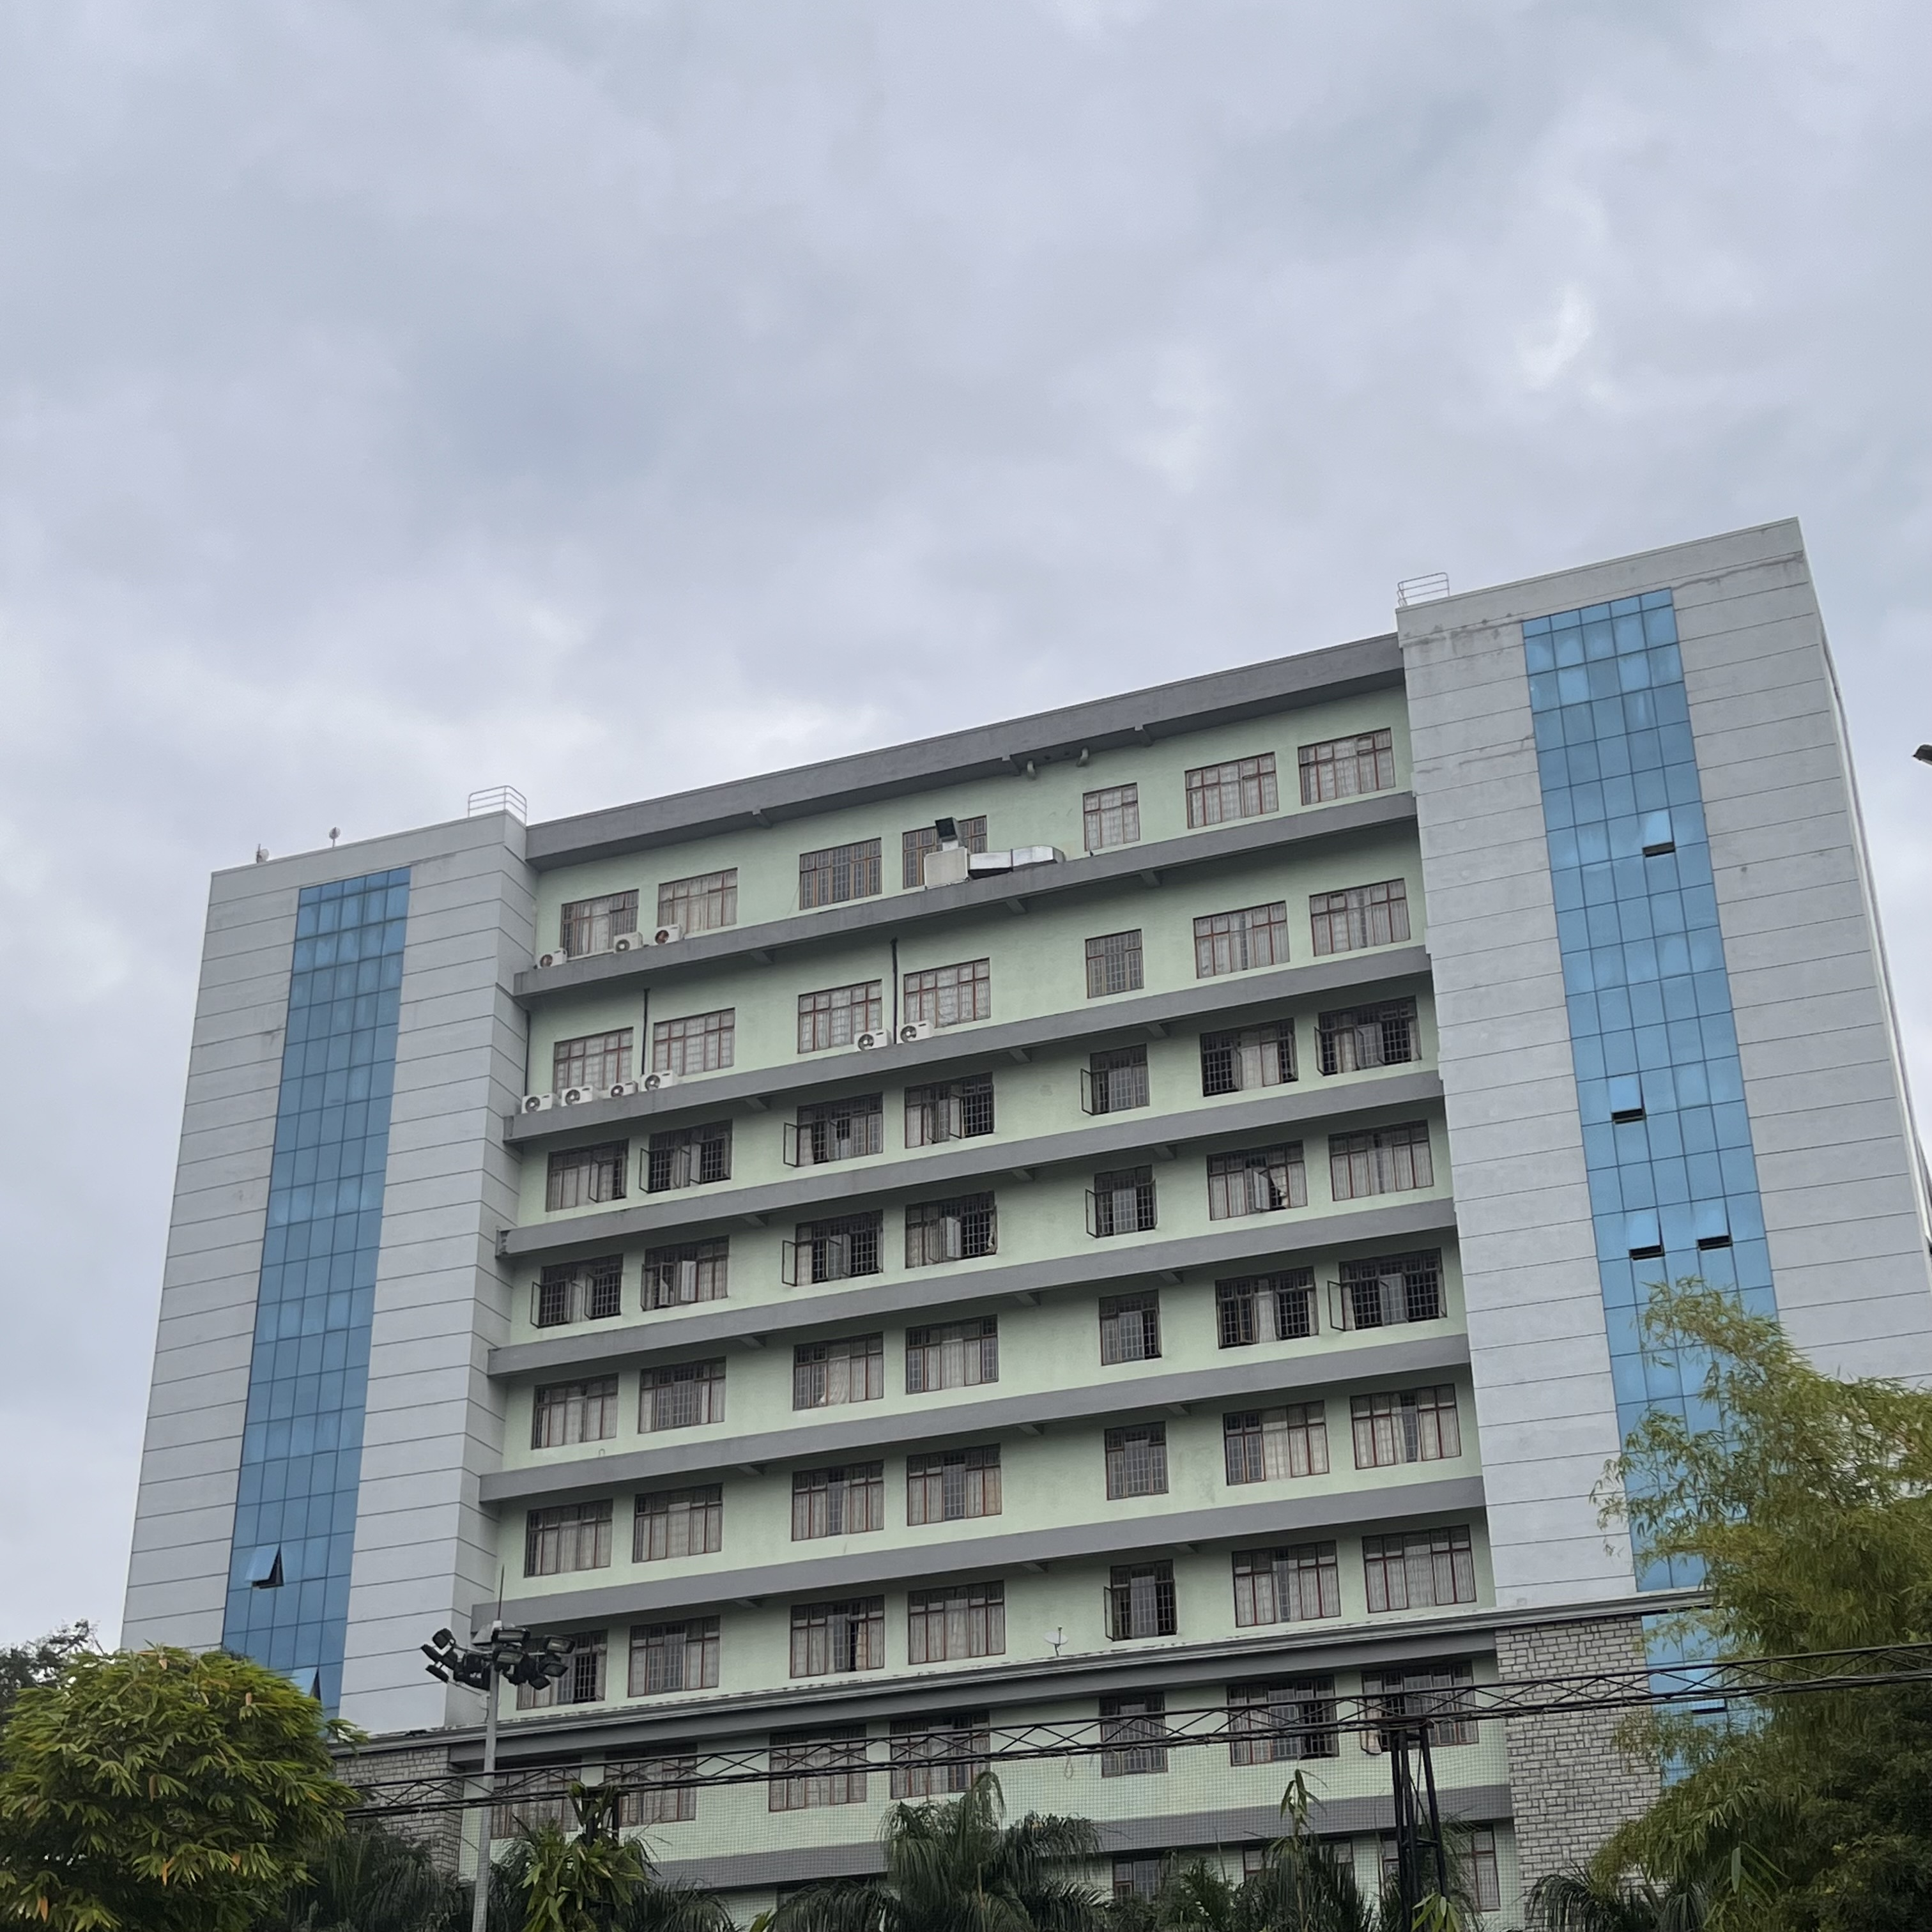Central Block: (163, 479, 1932, 1932)
